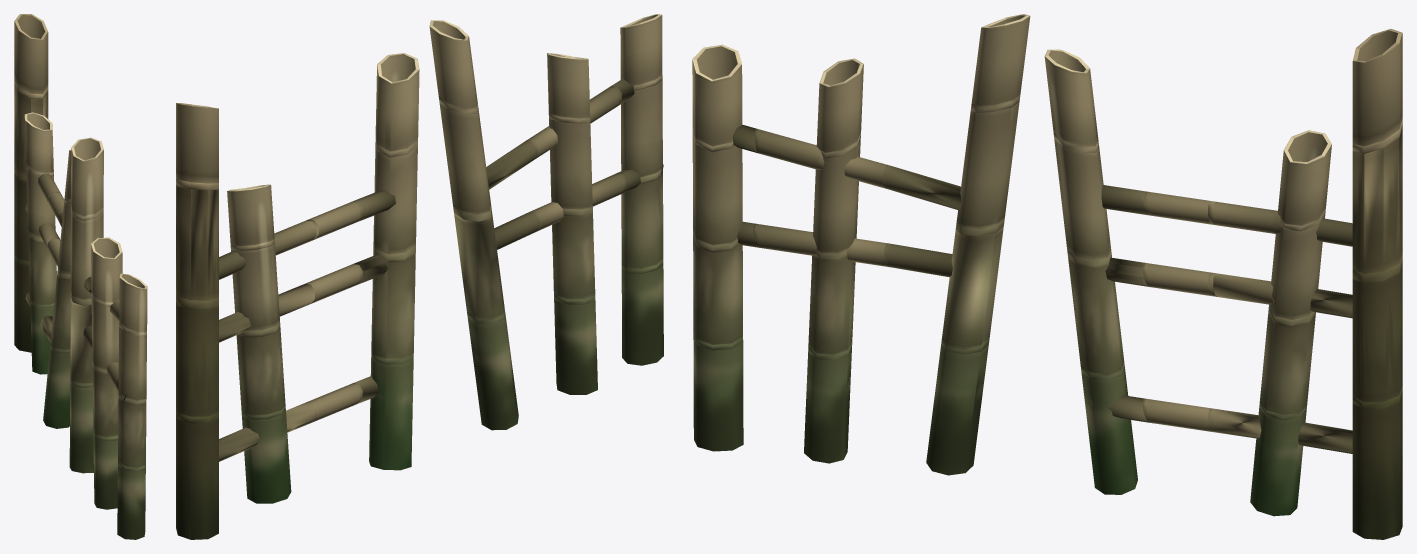
Rendered from hang-rao-doc.fbx.
3 views of the same model, side by side, from view 1: azimuth 30°, elevation 25°; view 2: azimuth 150°, elevation 25°; view 3: azimuth 270°, elevation 25° (orthographic). The views are drawn at different scales.
Parts seen in each view (by area): view 1: polySurface14, polySurface16, polySurface15, polySurface13, polySurface21, polySurface22, polySurface1, polySurface2, polySurface5, polySurface3, polySurface4; view 2: polySurface13, polySurface22, polySurface14, polySurface16, polySurface15, polySurface21, polySurface1, polySurface2, polySurface3, polySurface4, polySurface5; view 3: polySurface13, polySurface14, polySurface16, polySurface22, polySurface21, polySurface15, polySurface1, polySurface2, polySurface4, polySurface3, polySurface5.
Boxes of the visible parts, box(x1,y1,x2,y2) form: polySurface14: box(69, 137, 103, 473); polySurface16: box(117, 273, 147, 539); polySurface15: box(91, 237, 122, 509); polySurface13: box(14, 14, 48, 352); polySurface21: box(24, 112, 56, 374); polySurface22: box(43, 150, 71, 428); polySurface1: box(25, 160, 64, 226); polySurface2: box(25, 204, 60, 266); polySurface5: box(83, 325, 126, 400); polySurface3: box(25, 292, 52, 342); polySurface4: box(84, 277, 119, 320); polySurface13: box(176, 103, 218, 539); polySurface22: box(369, 53, 419, 470); polySurface14: box(429, 20, 518, 430); polySurface16: box(620, 14, 663, 365); polySurface15: box(547, 53, 597, 394); polySurface21: box(227, 184, 291, 503); polySurface1: box(219, 190, 395, 279); polySurface2: box(219, 255, 387, 342); polySurface3: box(219, 376, 377, 461); polySurface4: box(486, 78, 634, 189); polySurface5: box(494, 164, 663, 249); polySurface13: box(1352, 29, 1402, 539); polySurface14: box(926, 14, 1030, 475); polySurface16: box(692, 44, 743, 451); polySurface22: box(1044, 49, 1137, 494); polySurface21: box(1250, 130, 1331, 516); polySurface15: box(804, 58, 863, 463); polySurface1: box(1101, 185, 1352, 246); polySurface2: box(1105, 257, 1352, 318); polySurface4: box(732, 124, 961, 209); polySurface3: box(1089, 395, 1352, 453); polySurface5: box(737, 221, 952, 277).
Size of the model in its own units: 1.91 by 4.14 by 5.37.
